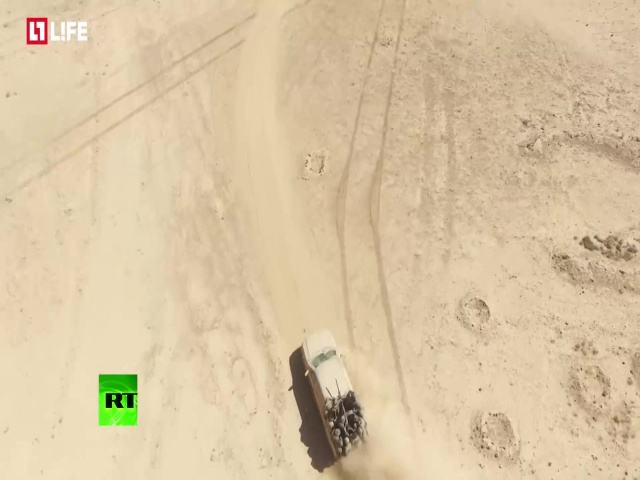vehicle: (300, 326, 372, 460)
